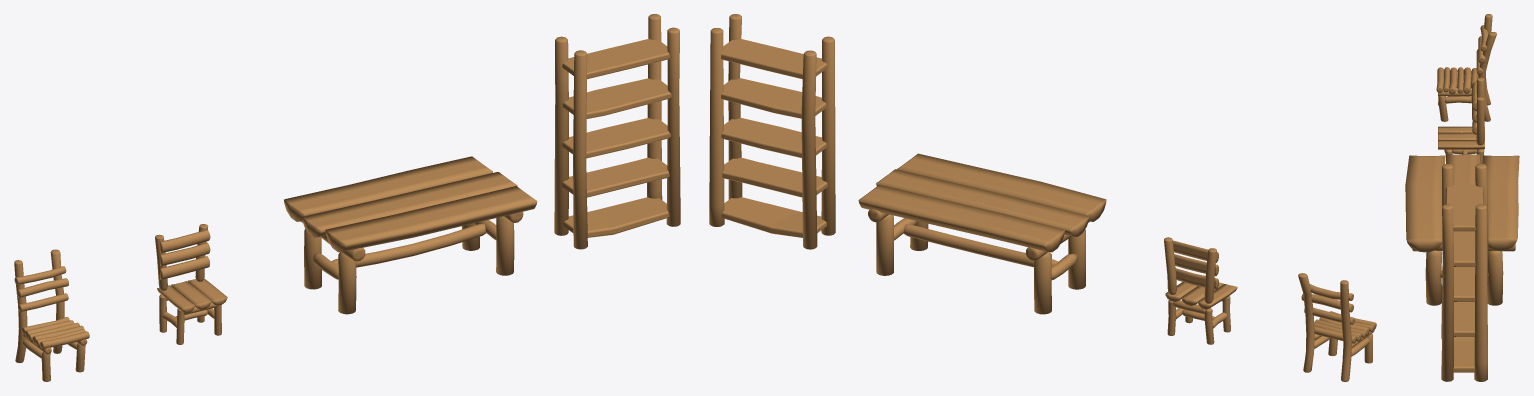
File: DungeonProps01.fbx
3 views of the same model, side by side, from view 1: azimuth 30°, elevation 25°; view 2: azimuth 150°, elevation 25°; view 3: azimuth 270°, elevation 25° (orthographic). The views are drawn at different scales.
Parts seen in each view (by area): view 1: Bookshelf_Geo, Table01_Geo, Chair02_Geo, Chair01_Geo; view 2: Bookshelf_Geo, Table01_Geo, Chair02_Geo, Chair01_Geo; view 3: Bookshelf_Geo, Table01_Geo, Chair01_Geo, Chair02_Geo.
Boxes of the visible parts, <box> form: Bookshelf_Geo: <box>554,14,680,249</box>; Table01_Geo: <box>284,156,537,314</box>; Chair02_Geo: <box>155,224,227,344</box>; Chair01_Geo: <box>14,249,89,381</box>; Bookshelf_Geo: <box>709,14,835,249</box>; Table01_Geo: <box>858,153,1106,314</box>; Chair02_Geo: <box>1164,237,1237,344</box>; Chair01_Geo: <box>1298,273,1376,381</box>; Bookshelf_Geo: <box>1441,163,1488,381</box>; Table01_Geo: <box>1405,154,1519,305</box>; Chair01_Geo: <box>1436,14,1496,121</box>; Chair02_Geo: <box>1438,77,1484,163</box>.
Size of what is drawn, in the model's own units: 6.89 by 1.99 by 1.19.
